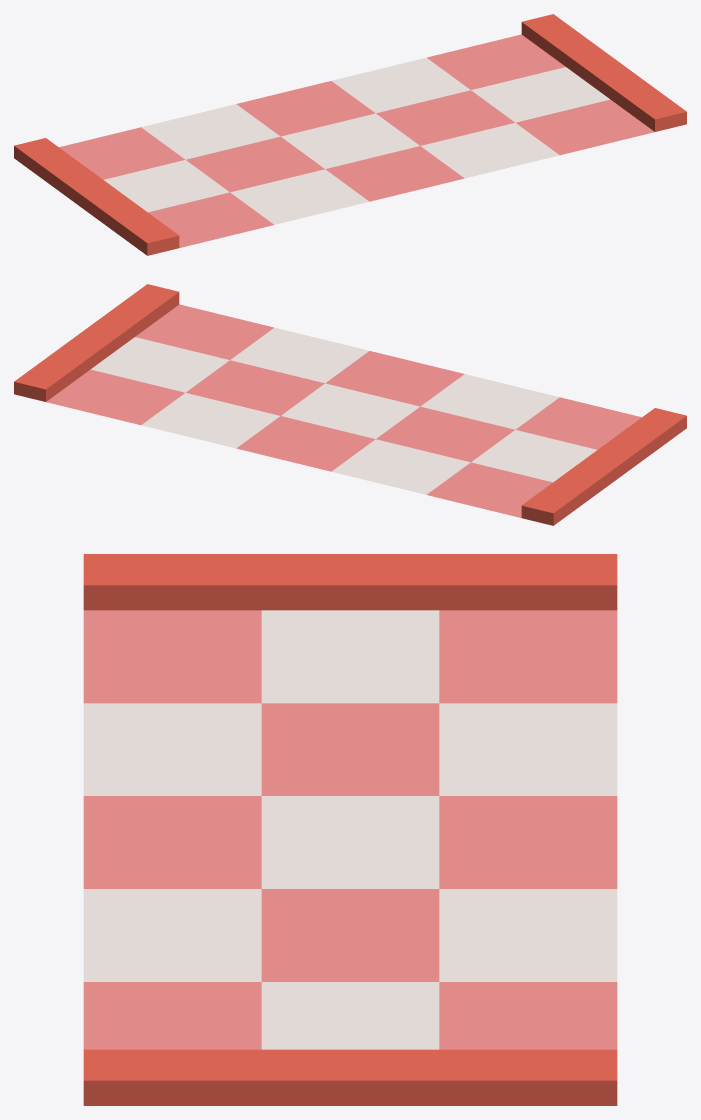
The model's file is Entry_Plane3.fbx.
3 renders of one model, top to bottom at view 1: azimuth 30°, elevation 25°; view 2: azimuth 150°, elevation 25°; view 3: azimuth 270°, elevation 25°, orthographic. The views are drawn at different scales.
Parts seen in each view (by area): view 1: Entry_Plane; view 2: Entry_Plane; view 3: Entry_Plane.
Boxes of the visible parts, x1,y1,x2,y2 form: Entry_Plane: [14, 14, 686, 255]; Entry_Plane: [14, 284, 686, 525]; Entry_Plane: [83, 554, 617, 1105].
Bounding box in the file's own units: 420 × 9.36 × 180.
